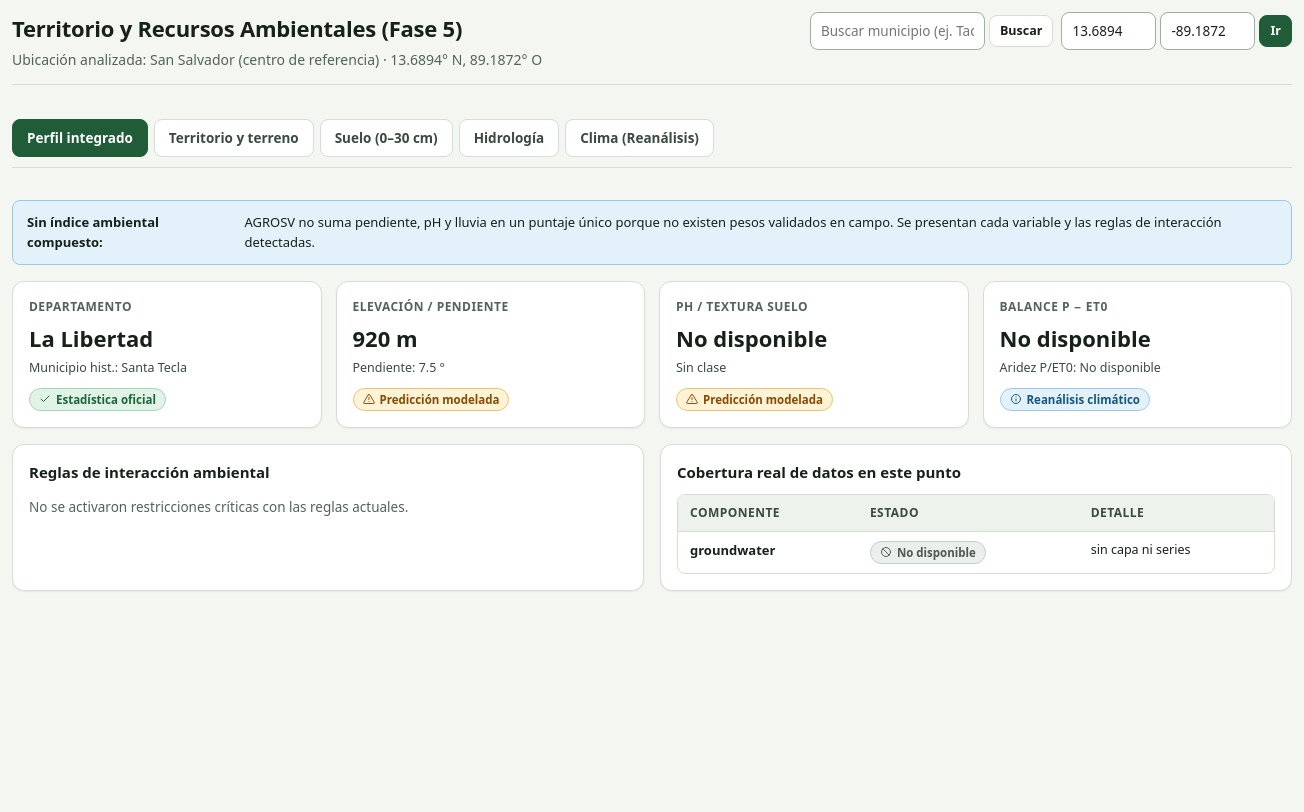
Scenario: Territory, Monitoring, Markets, and Risks workflows › displays explicit groundwater unavailability and non-station climate notes in TerritoryPage
The width and height of the screenshot is (1304, 812).
Expected: the text "La Libertad" is shown, 29,323 -> 153,353
Click the tab "Hidrología" at {"x": 509, "y": 138}, box 459,119 -> 559,157
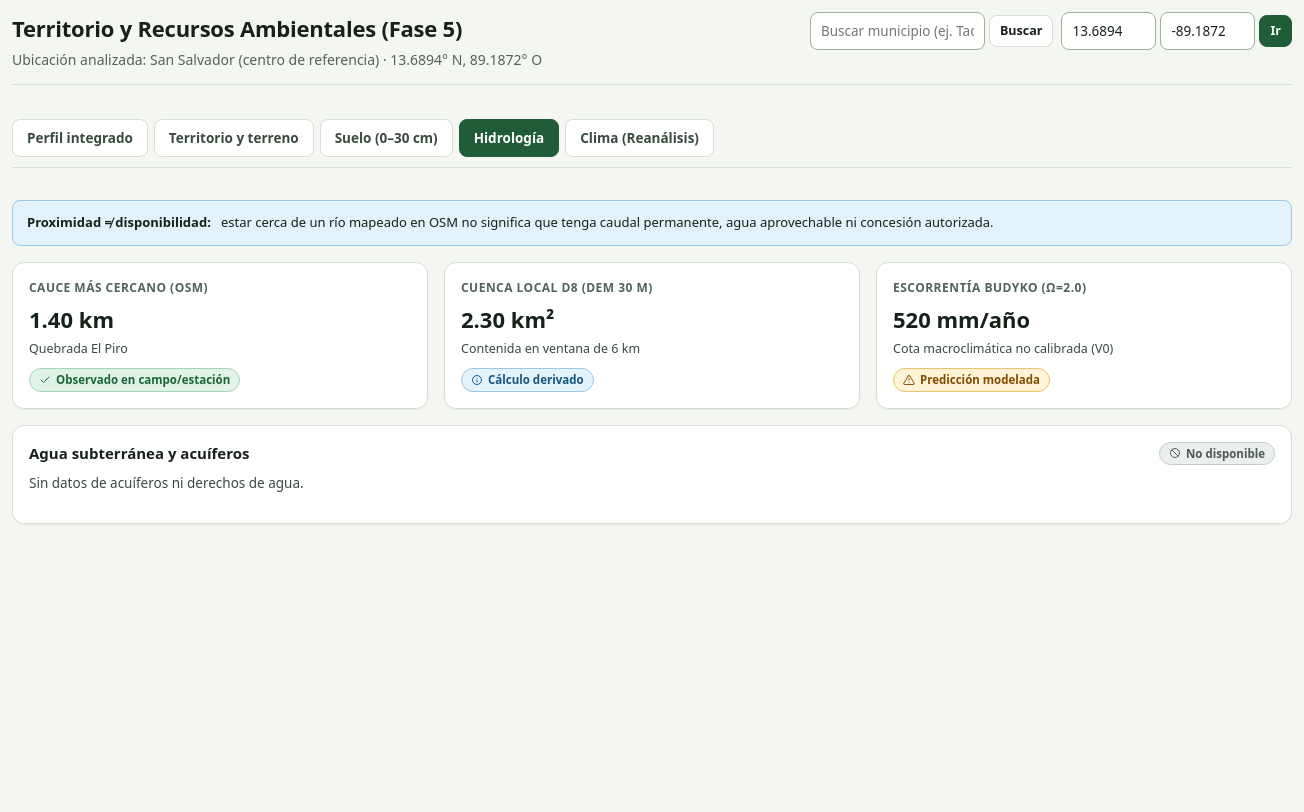
Expected: the text "Sin datos de acuíferos ni derechos de agua." is shown, 29,474 -> 304,492
Click the tab "Clima (Reanálisis)" at {"x": 640, "y": 138}, box 565,119 -> 714,157
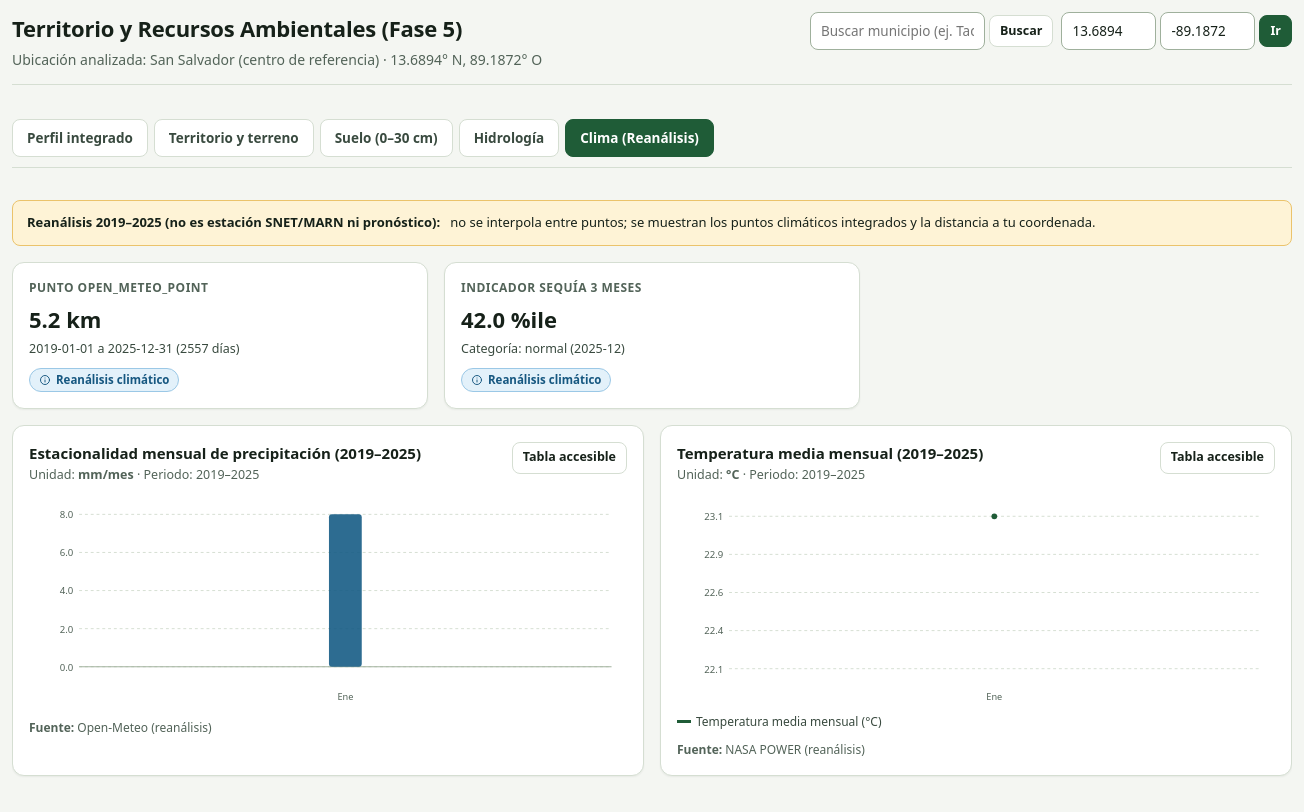
Expected: the text "no es estación SNET/MARN ni pronóstico" is shown, 27,213 -> 440,231
